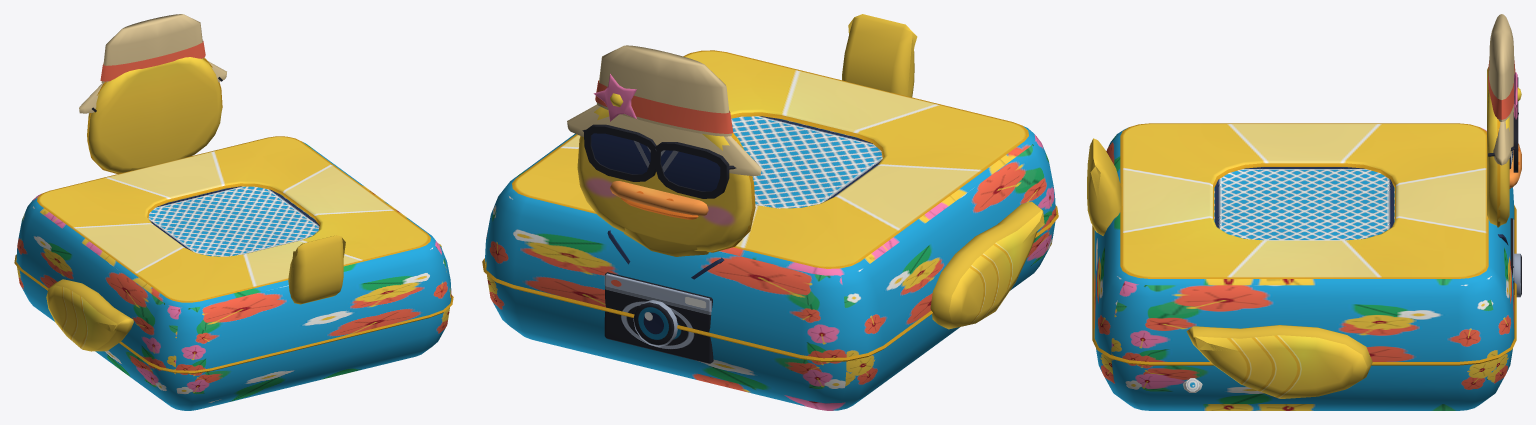
The model's file is pool_duck_ring_tourist.glb.
3 renders of one model, left to right at view 1: azimuth 30°, elevation 25°; view 2: azimuth 150°, elevation 25°; view 3: azimuth 270°, elevation 25°, orthographic. The views are drawn at different scales.
Parts seen in each view (by area): view 1: pool_duck_ring_tourist_LOD0; view 2: pool_duck_ring_tourist_LOD0; view 3: pool_duck_ring_tourist_LOD0.
Part boxes in pixels (x1,y1,x2,y2): pool_duck_ring_tourist_LOD0: [14, 14, 453, 410]; pool_duck_ring_tourist_LOD0: [482, 14, 1058, 410]; pool_duck_ring_tourist_LOD0: [1087, 14, 1521, 410].
Bounding box in the file's own units: 15 × 11 × 14.
Materials: 1 (1 with a texture image).
